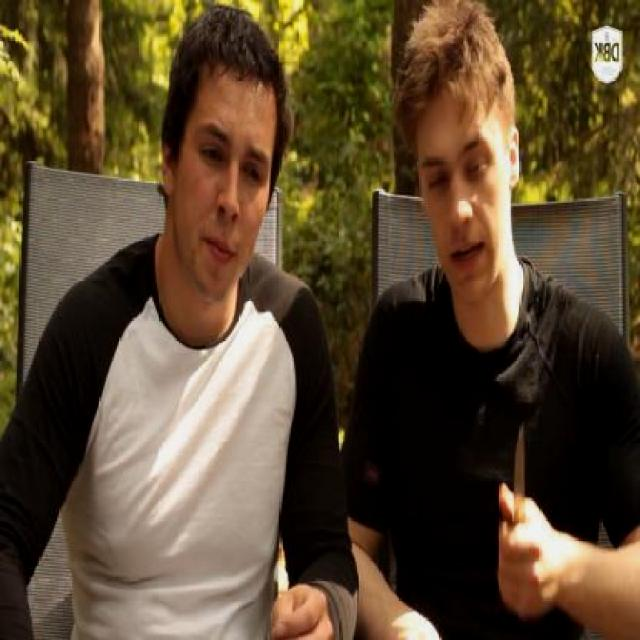knife: (489, 403, 551, 612)
